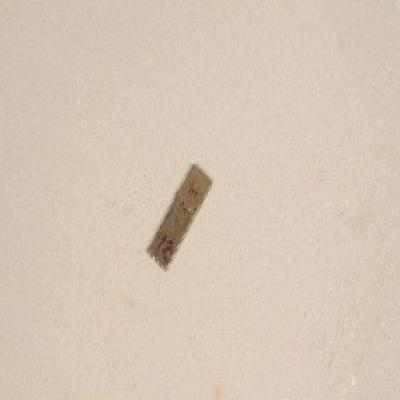technique: (146, 164, 213, 272)
